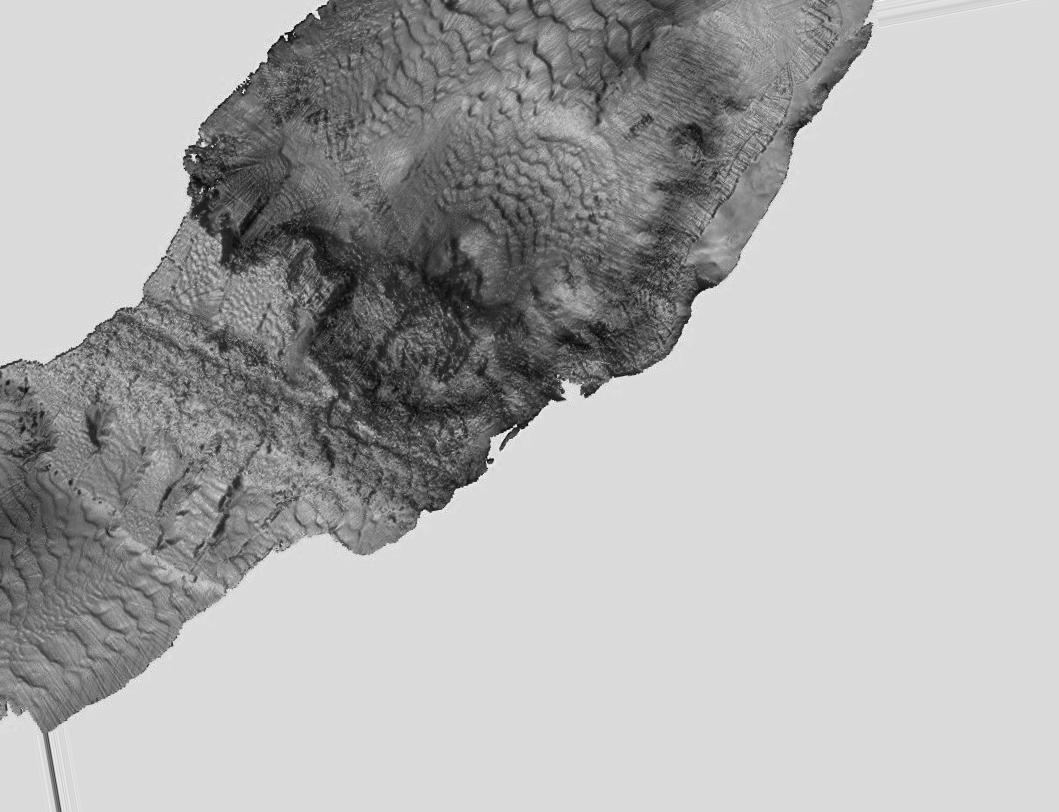Dune: (367, 6, 603, 108), (434, 124, 613, 236), (41, 585, 201, 700), (9, 501, 93, 593)
Scarp: (630, 153, 803, 431), (436, 336, 719, 504)
Scour pit: (385, 191, 541, 335)
Submerged dike: (236, 386, 486, 555), (49, 311, 297, 473)
